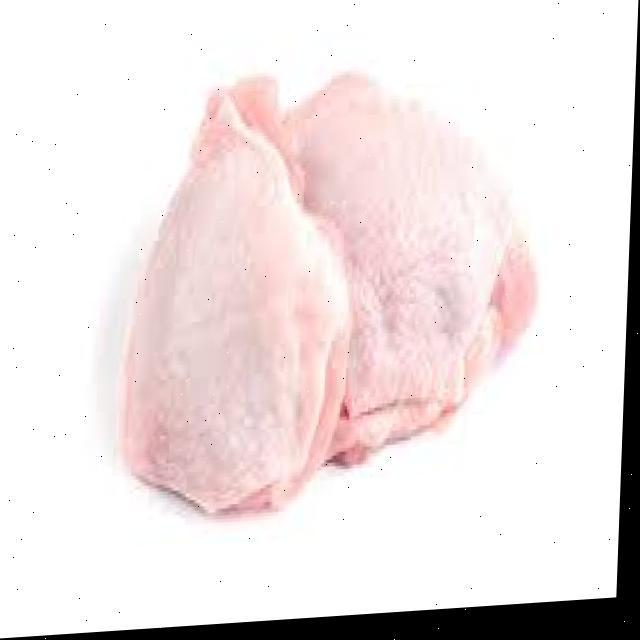thigh: (286, 48, 556, 500), (137, 85, 363, 591)
